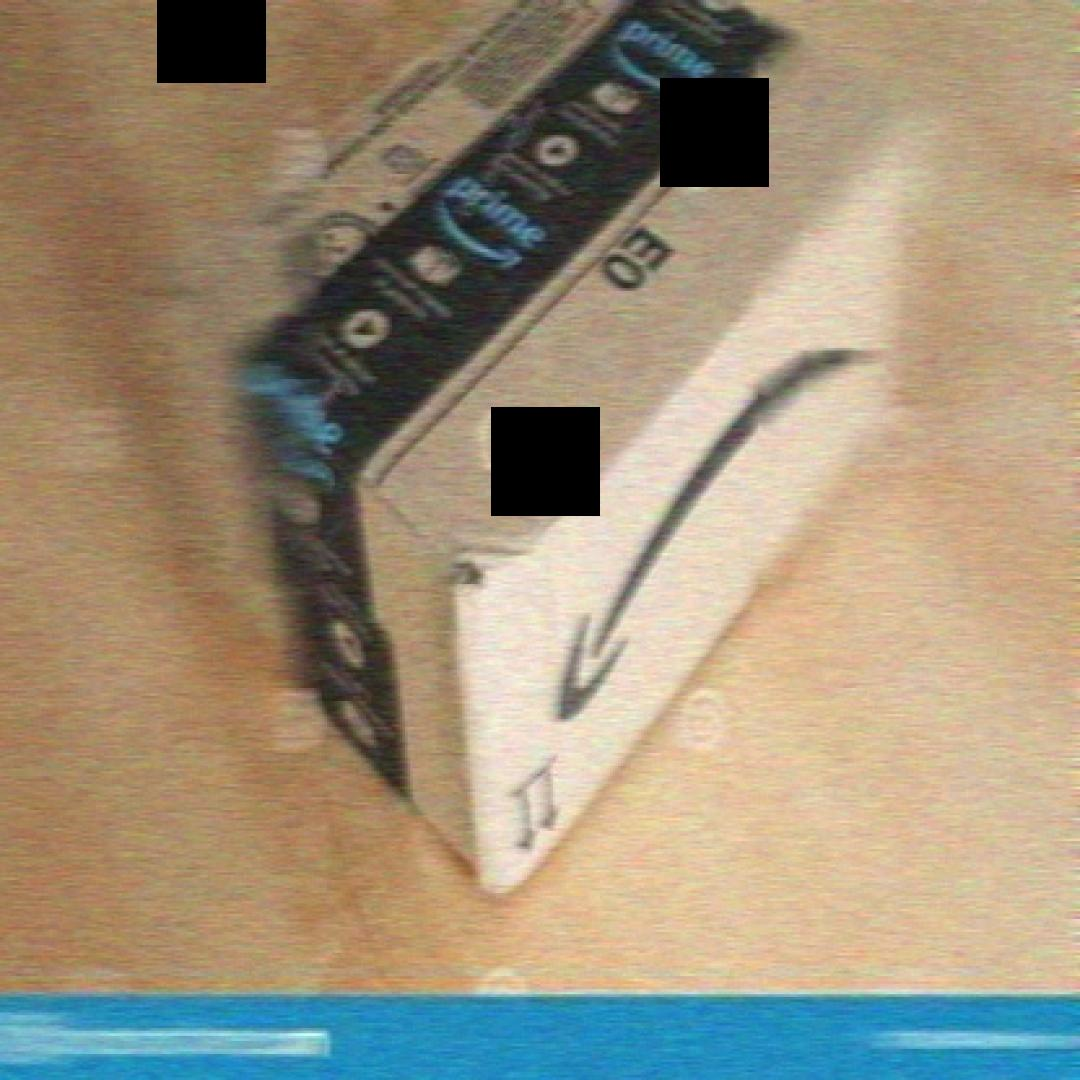package: (158, 0, 926, 901)
